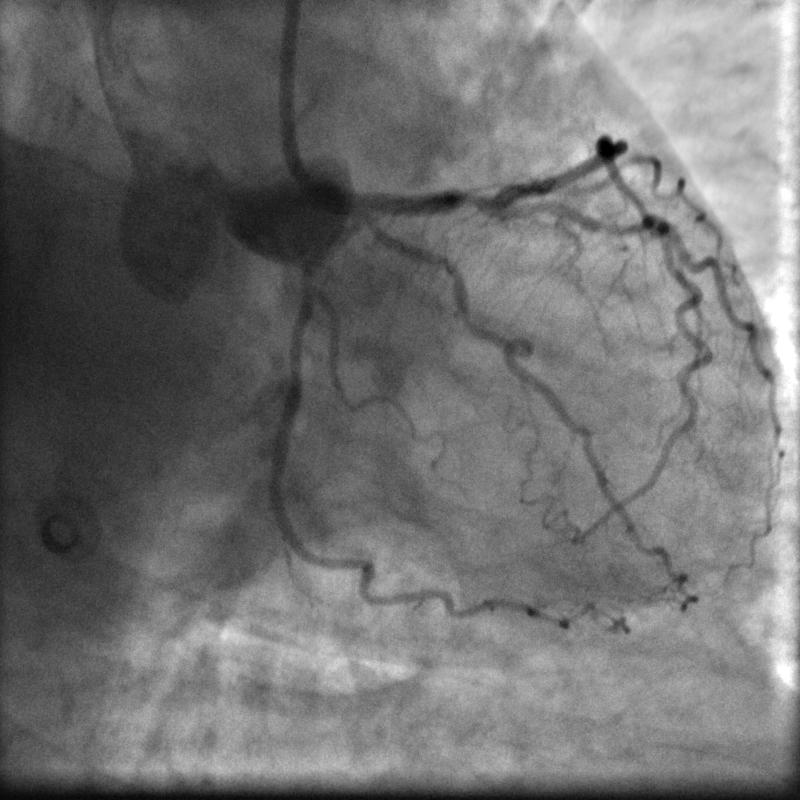Stenosis: (453, 184, 489, 215)
